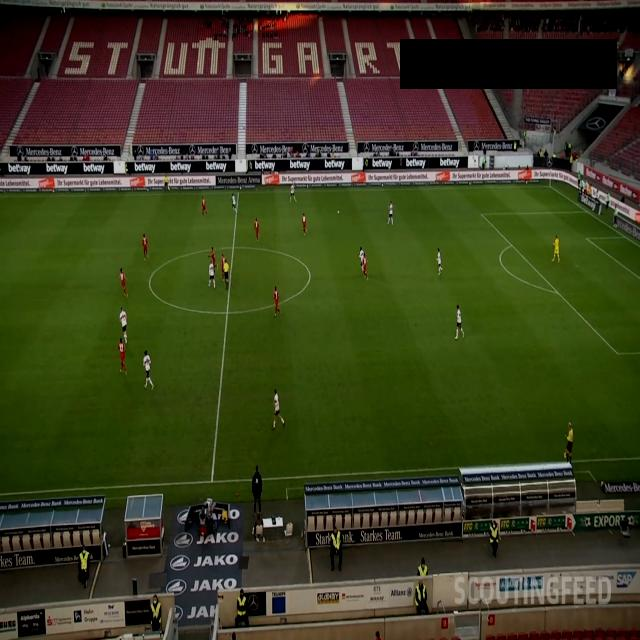ball: (337, 208, 341, 216)
f_player: (272, 387, 288, 438), (120, 326, 130, 376), (454, 304, 466, 340), (142, 352, 153, 389), (207, 249, 217, 287), (360, 246, 370, 278), (221, 255, 231, 287), (120, 266, 130, 296), (552, 234, 562, 264), (435, 248, 444, 278), (120, 307, 128, 338), (272, 287, 280, 317), (230, 192, 240, 216), (140, 232, 148, 260), (386, 200, 394, 224), (254, 218, 262, 242), (290, 181, 298, 205), (301, 215, 309, 238), (200, 198, 208, 217)
umpire: (564, 422, 576, 462), (224, 259, 232, 291), (162, 172, 172, 195)
